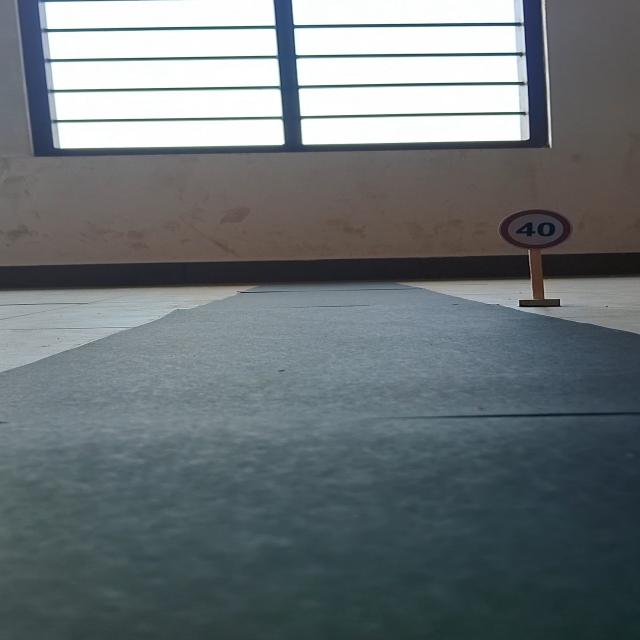Speed40: (492, 204, 579, 252)
